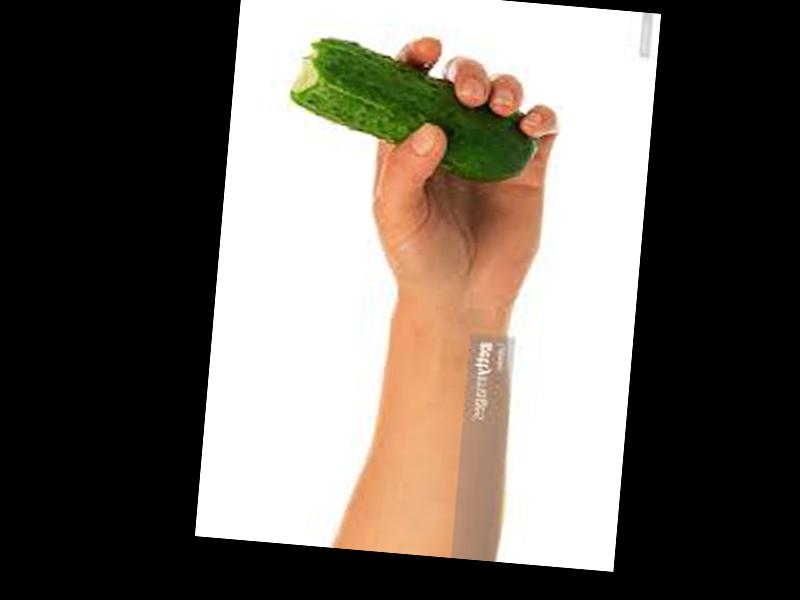Cucumber: (284, 36, 542, 185)
